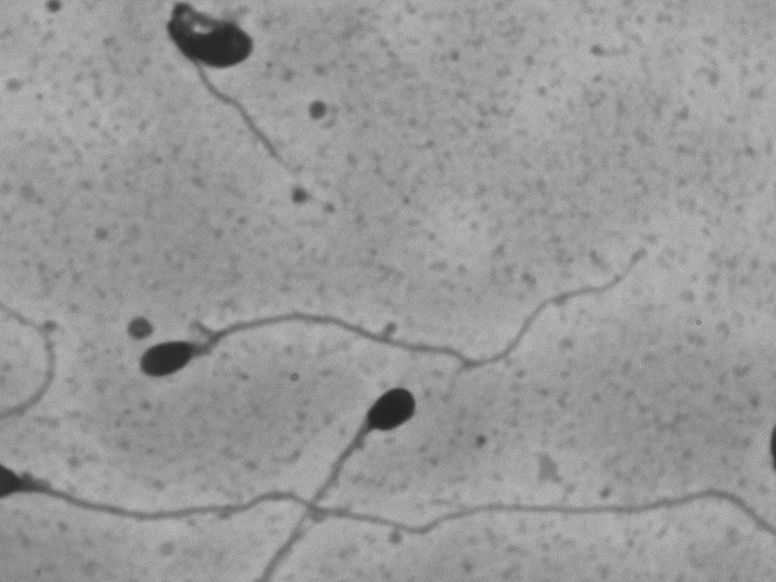Abnormal: (277, 376, 452, 561), (140, 5, 299, 171)
Normal: (122, 234, 658, 394)
